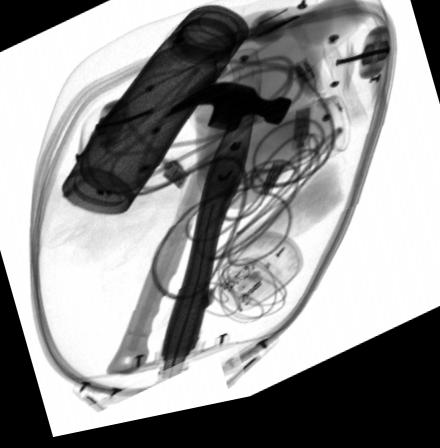Hammer: (103, 89, 293, 380)
